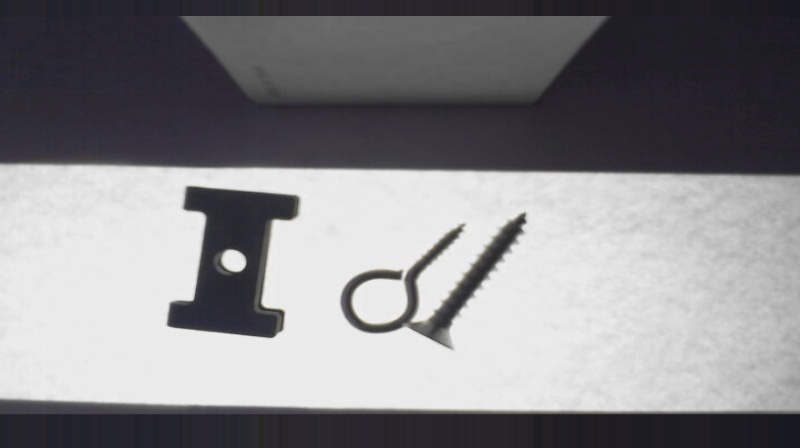O001: (339, 219, 472, 335)
O002: (163, 185, 303, 337)
S001: (404, 208, 529, 351)
